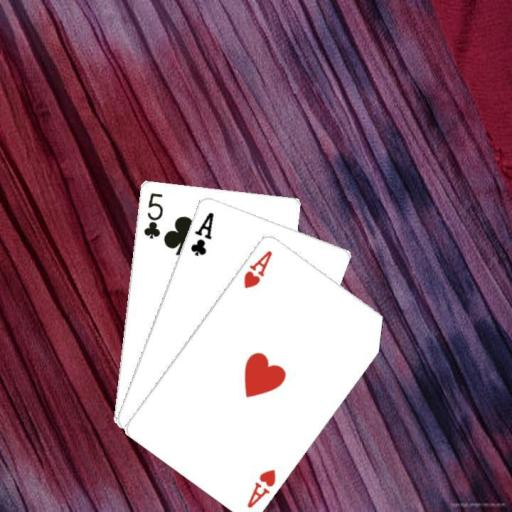5C: (140, 189, 164, 240)
AC: (187, 209, 215, 258)
AH: (244, 465, 278, 509), (240, 247, 274, 290)
